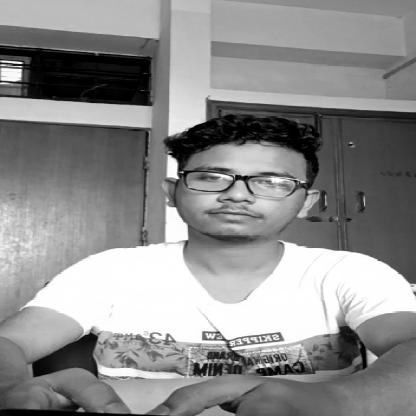Normal: (154, 114, 331, 253)
